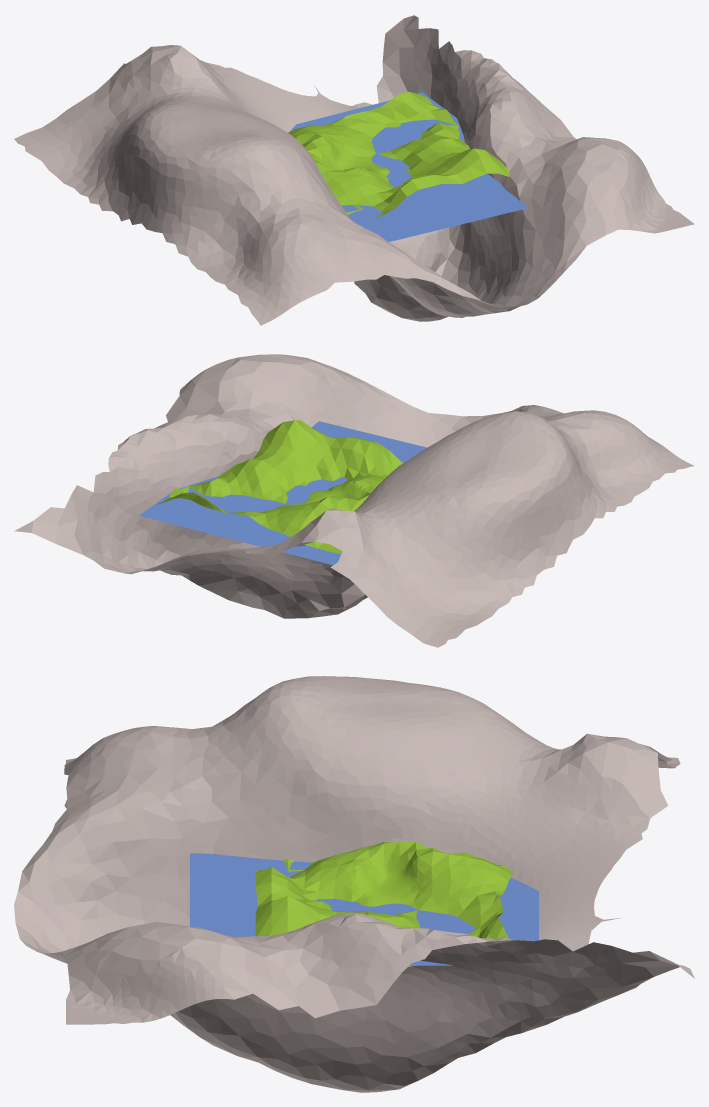
File: terrain.dae
The picture shows the model from 3 angles, top to bottom: view 1: azimuth 30°, elevation 25°; view 2: azimuth 150°, elevation 25°; view 3: azimuth 270°, elevation 25°; orthographic projection. The views are drawn at different scales.
Visible parts, largest first — view 1: Plane; view 2: Plane; view 3: Plane.
Boxes of the visible parts, bbox=[...] form: Plane: bbox=[14, 15, 694, 325]; Plane: bbox=[14, 354, 694, 647]; Plane: bbox=[14, 676, 694, 1092].
Size of the model in its own units: 95.52 by 104 by 47.03.
